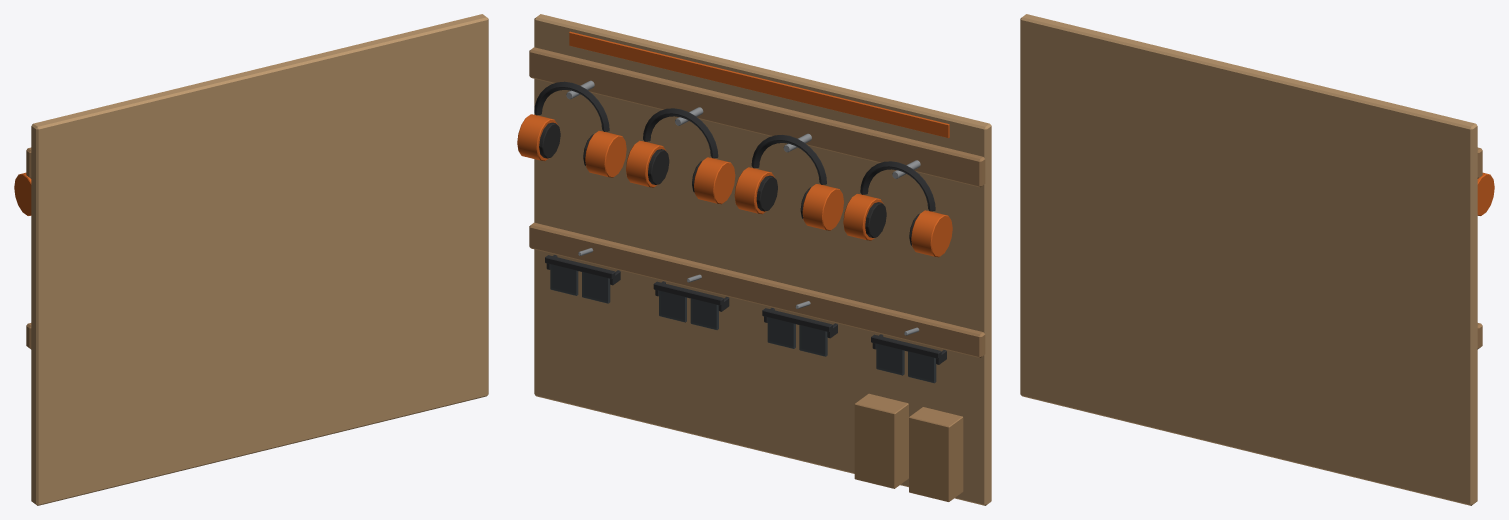
File: prop_sh_ppe_rack.glb
3 renders of one model, left to right at view 1: azimuth 30°, elevation 25°; view 2: azimuth 150°, elevation 25°; view 3: azimuth 330°, elevation 25°, orthographic.
Visible parts, largest first — view 1: Body; view 2: Body; view 3: Body.
Part boxes in pixels (box(x1,y1,x2,y2)): Body: box(14, 14, 488, 505); Body: box(517, 14, 991, 505); Body: box(1020, 14, 1494, 505).
Size of the model in its own units: 1 by 0.8 by 0.162.
